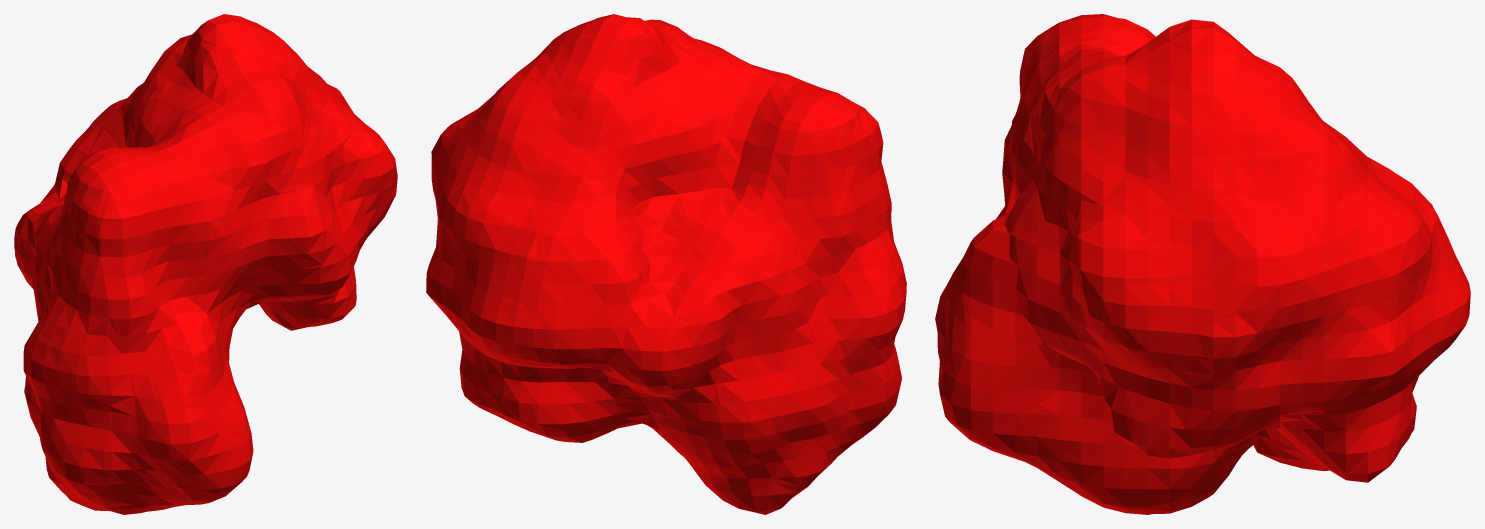
Rendered from dusB_coarse.dae.
The picture shows the model from 3 angles, left to right: view 1: azimuth 30°, elevation 25°; view 2: azimuth 150°, elevation 25°; view 3: azimuth 270°, elevation 25°; orthographic projection. The views are drawn at different scales.
Visible parts, largest first — view 1: dusB; view 2: dusB; view 3: dusB.
Boxes of the visible parts, x1=… form: dusB: x1=14, y1=14, x2=397, y2=514; dusB: x1=426, y1=14, x2=906, y2=514; dusB: x1=935, y1=14, x2=1470, y2=514.
Bounding box in the file's own units: 56.23 × 62.04 × 54.78.
